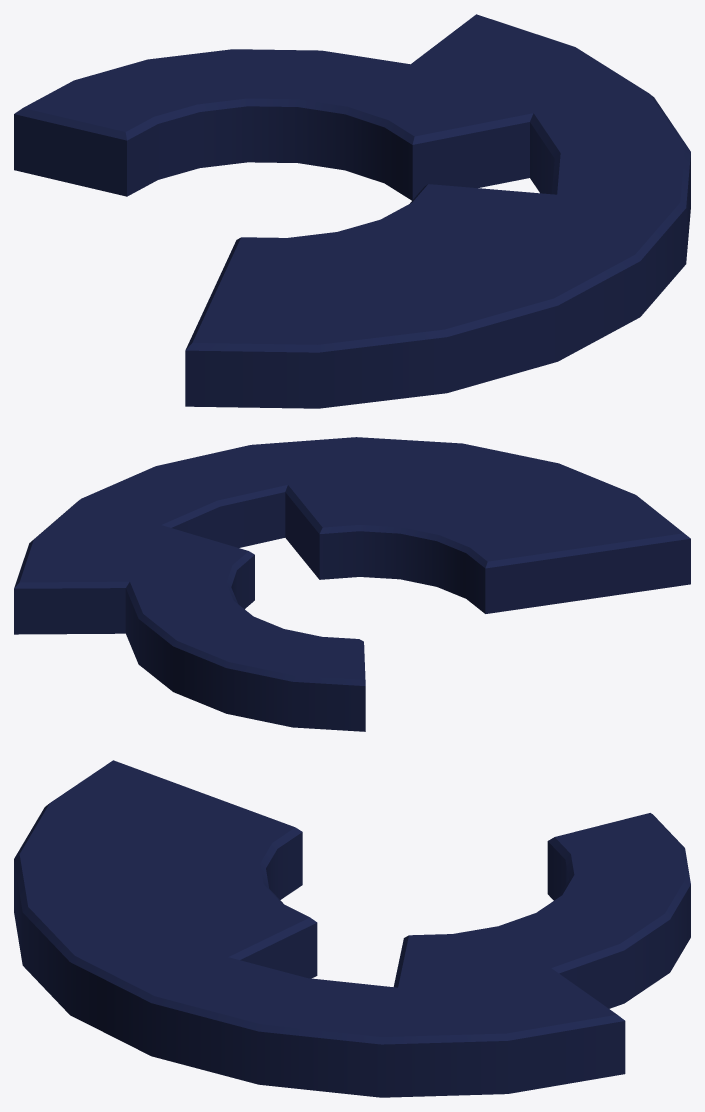
File: background_1.fbx
The picture shows the model from 3 angles, top to bottom: view 1: azimuth 30°, elevation 25°; view 2: azimuth 150°, elevation 25°; view 3: azimuth 270°, elevation 25°; orthographic projection. The views are drawn at different scales.
Parts seen in each view (by area): view 1: background_1; view 2: background_1; view 3: background_1.
Boxes of the visible parts, x1,y1,x2,y2 form: background_1: [14, 14, 690, 408]; background_1: [14, 437, 690, 731]; background_1: [14, 760, 690, 1097].
Bounding box in the file's own units: 8.59 × 0.8243 × 8.69.
